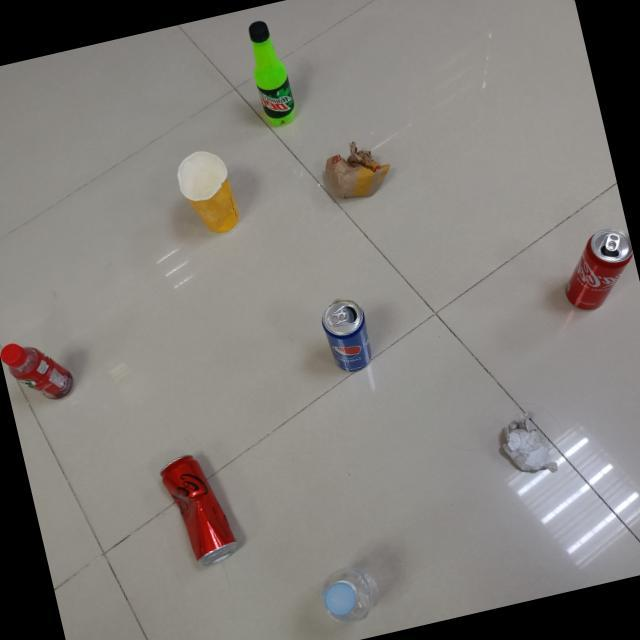recyclable waste: (151, 440, 249, 577), (165, 135, 248, 246), (548, 219, 640, 319), (235, 10, 304, 133), (0, 324, 82, 415), (314, 127, 402, 210), (488, 401, 564, 489), (311, 552, 391, 634), (314, 288, 380, 379)
